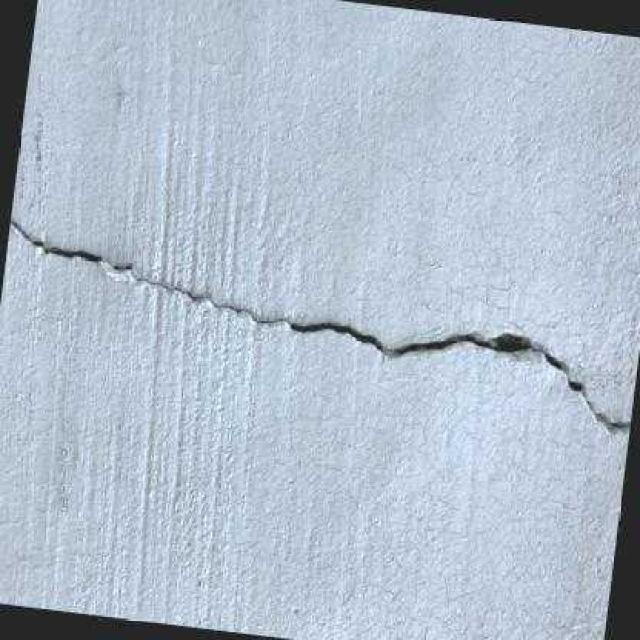D00: (9, 219, 630, 431)
